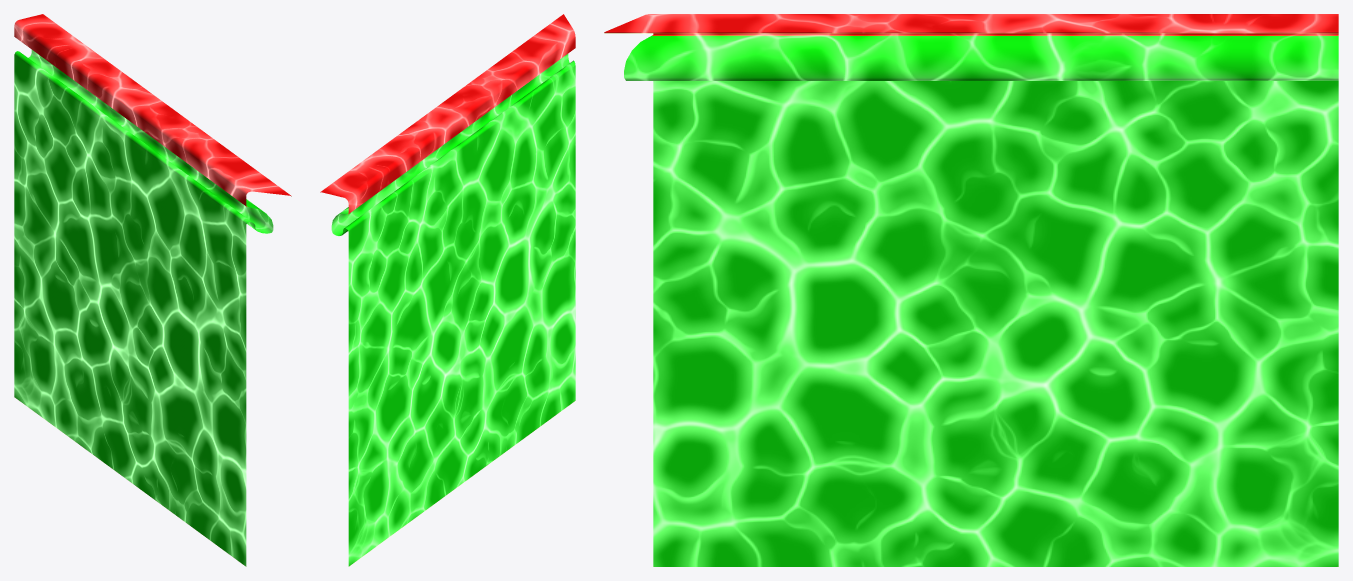
Rendered from SM_PoolSideCornerSingle300.fbx.
3 renders of one model, left to right at view 1: azimuth 30°, elevation 25°; view 2: azimuth 150°, elevation 25°; view 3: azimuth 270°, elevation 25°, orthographic. The views are drawn at different scales.
Visible parts, largest first — view 1: SM_PoolSideCornerSingle300_LOD0; view 2: SM_PoolSideCornerSingle300_LOD0; view 3: SM_PoolSideCornerSingle300_LOD0.
Part boxes in pixels (<box>): SM_PoolSideCornerSingle300_LOD0: <box>14,14,291,566</box>; SM_PoolSideCornerSingle300_LOD0: <box>320,14,575,566</box>; SM_PoolSideCornerSingle300_LOD0: <box>604,14,1338,566</box>.
Size of the model in its own units: 20.01 by 300 by 250.
Materials: 1 (1 with a texture image).
